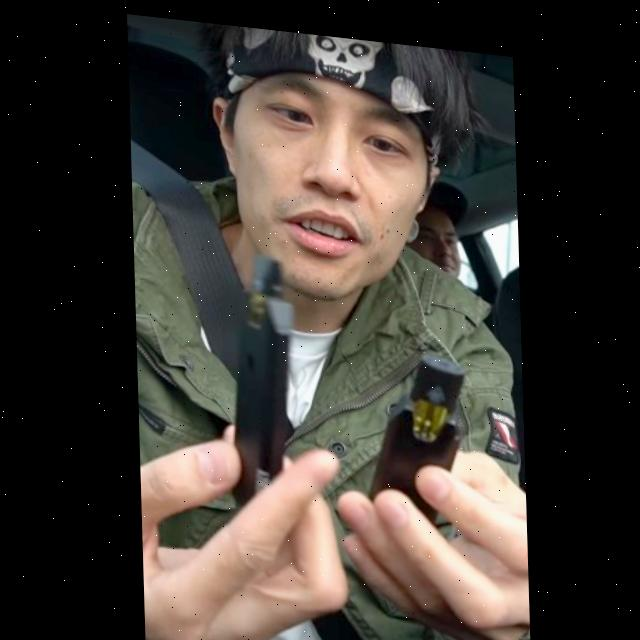vape: (223, 245, 299, 507), (362, 337, 468, 520)
